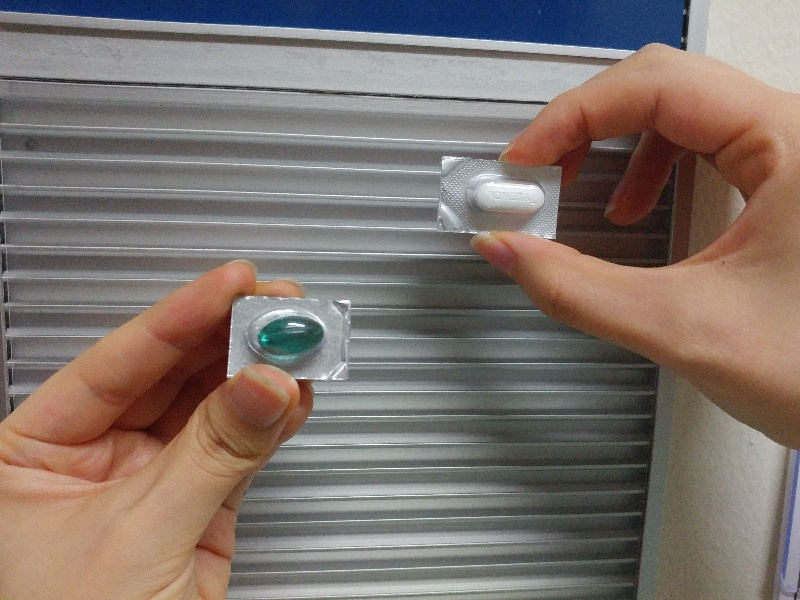pill_ezn: (225, 293, 349, 381)
pill_tylenol: (434, 156, 560, 237)
